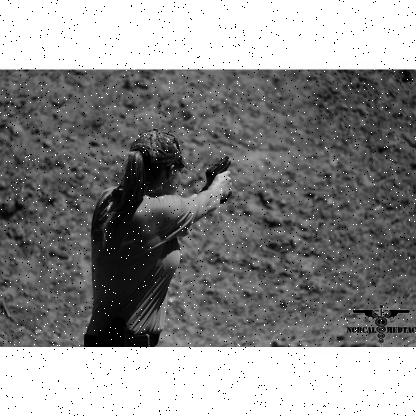gun: (206, 154, 235, 200)
